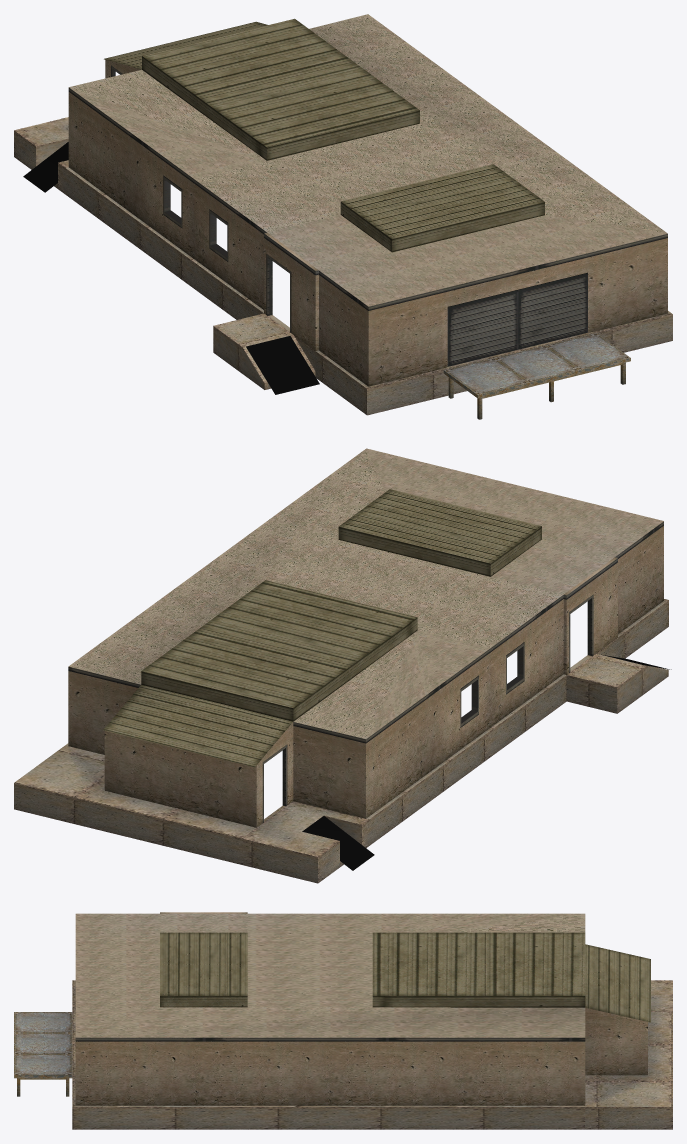
Rendered from M11Z1_Barracks.glb.
3 renders of one model, top to bottom at view 1: azimuth 30°, elevation 25°; view 2: azimuth 150°, elevation 25°; view 3: azimuth 270°, elevation 25°, orthographic. The views are drawn at different scales.
Visible parts, largest first — view 1: M11Z1_BARRACKS; view 2: M11Z1_BARRACKS; view 3: M11Z1_BARRACKS.
Boxes of the visible parts, x1=… form: M11Z1_BARRACKS: x1=14, y1=14, x2=672, y2=419; M11Z1_BARRACKS: x1=14, y1=448, x2=671, y2=883; M11Z1_BARRACKS: x1=14, y1=912, x2=672, y2=1129.
Bounding box in the file's own units: 14 × 4.51 × 26.33.
Materials: 8 (7 with a texture image).
